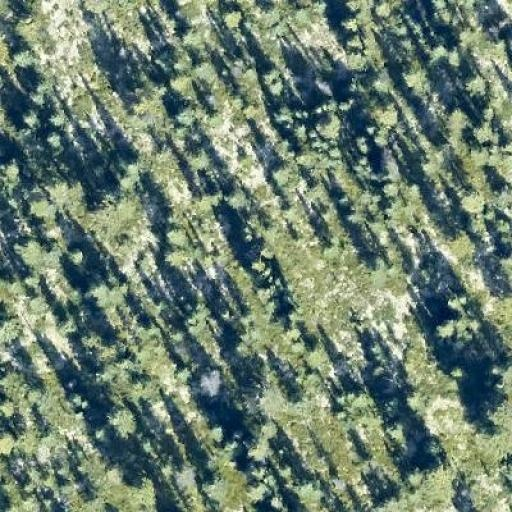tree-top: (404, 447, 457, 499), (83, 184, 133, 232), (236, 416, 278, 465), (13, 232, 59, 276), (79, 268, 127, 310), (42, 172, 88, 214), (199, 466, 244, 504), (473, 407, 510, 450), (103, 399, 141, 438), (122, 467, 157, 506), (10, 7, 45, 43), (167, 455, 202, 491), (313, 110, 352, 142), (19, 73, 56, 106), (191, 364, 225, 398), (398, 59, 432, 93), (157, 216, 191, 250), (110, 149, 146, 180), (431, 310, 464, 343), (170, 96, 202, 130), (457, 185, 490, 217), (370, 97, 402, 130), (181, 143, 215, 174), (467, 114, 498, 145), (8, 40, 38, 70), (376, 156, 406, 186), (302, 336, 331, 367), (442, 291, 472, 320), (268, 158, 297, 188), (174, 20, 204, 49), (167, 66, 196, 96), (343, 46, 374, 74), (375, 481, 403, 512), (444, 104, 472, 134), (489, 179, 512, 212), (0, 151, 21, 187), (335, 8, 363, 35), (223, 183, 250, 211), (262, 66, 288, 95), (217, 3, 245, 29), (269, 101, 295, 129), (0, 309, 20, 343), (310, 73, 338, 97), (16, 104, 43, 128), (344, 384, 370, 408), (46, 107, 68, 132), (65, 246, 89, 268), (464, 71, 486, 95), (0, 394, 20, 416)
